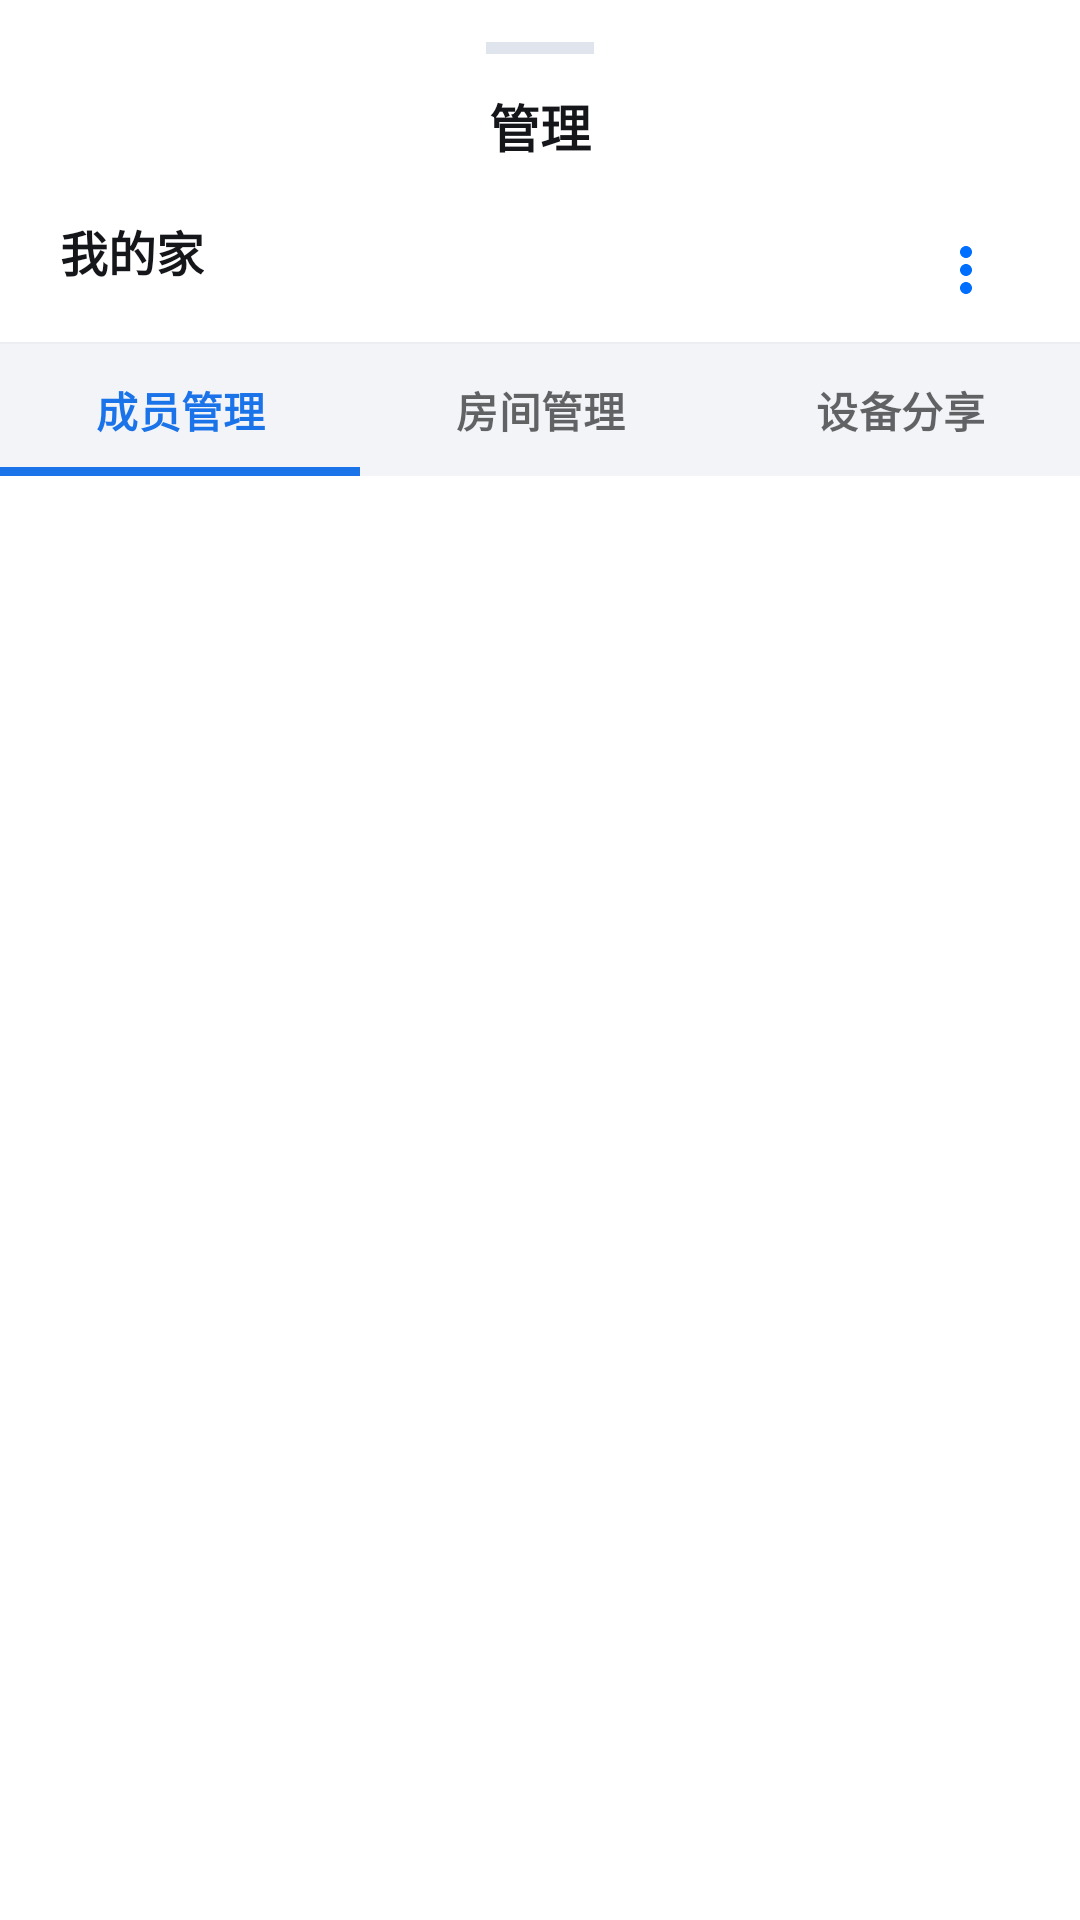

Icons on this 1080 × 1920 Android screen, each with its box as (x1, y1, x2, y2):
更多操作: (960, 246, 972, 294)
